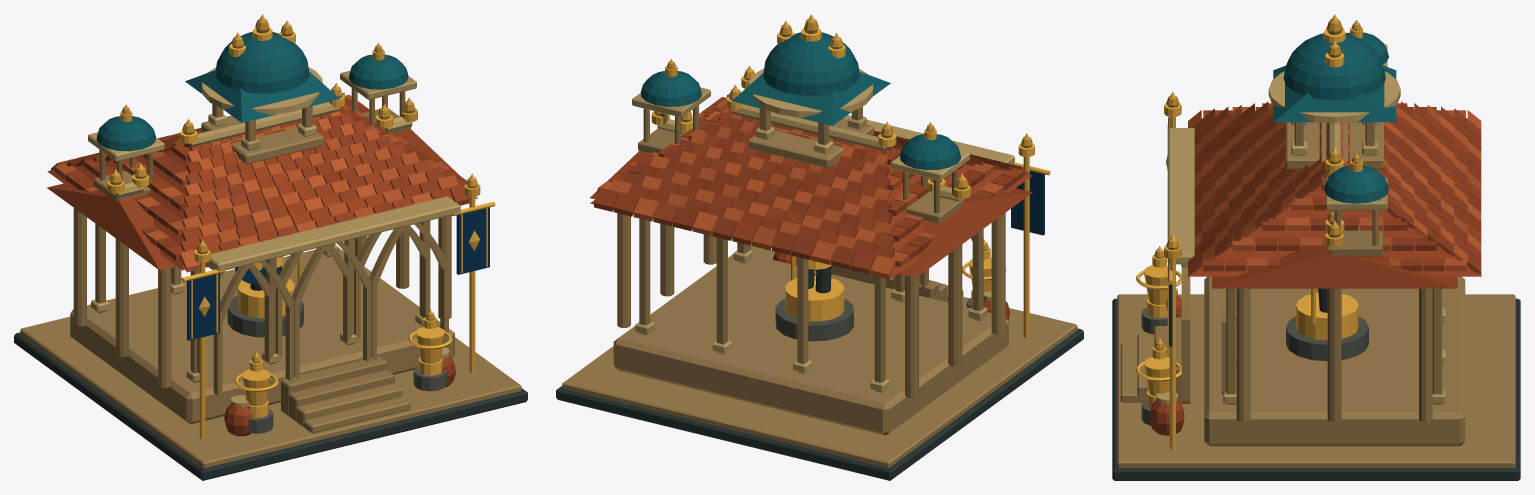
The picture shows the model from 3 angles, left to right: view 1: azimuth 30°, elevation 25°; view 2: azimuth 150°, elevation 25°; view 3: azimuth 270°, elevation 25°; orthographic projection. The views are drawn at different scales.
Visible parts, largest first — view 1: hero_hall_level6_structure, hero_hall_level6_metal; view 2: hero_hall_level6_structure, hero_hall_level6_metal; view 3: hero_hall_level6_structure, hero_hall_level6_metal.
Boxes of the visible parts, x1,y1,x2,y2 form: hero_hall_level6_structure: (14, 19, 527, 480); hero_hall_level6_metal: (107, 14, 495, 438); hero_hall_level6_structure: (556, 19, 1083, 480); hero_hall_level6_metal: (651, 14, 1050, 337); hero_hall_level6_structure: (1112, 19, 1520, 480); hero_hall_level6_metal: (1136, 14, 1362, 449).
Bounding box in the file's own units: 5.6 × 5.78 × 5.6.
